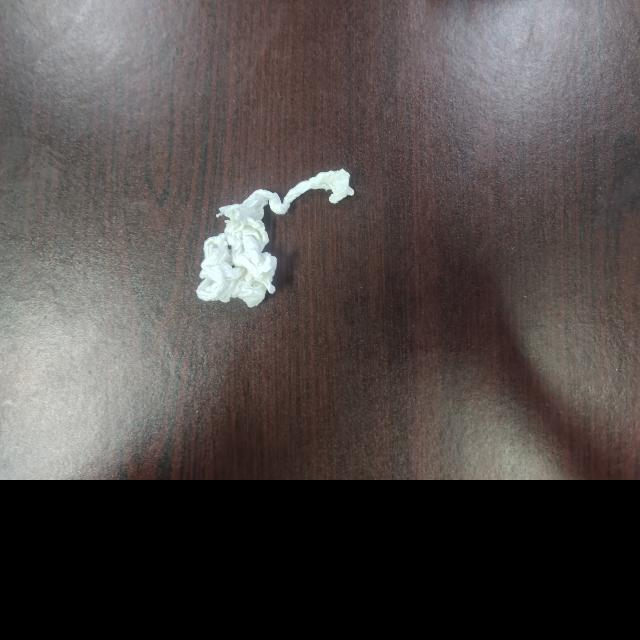kitchen paper: (191, 164, 359, 311)
